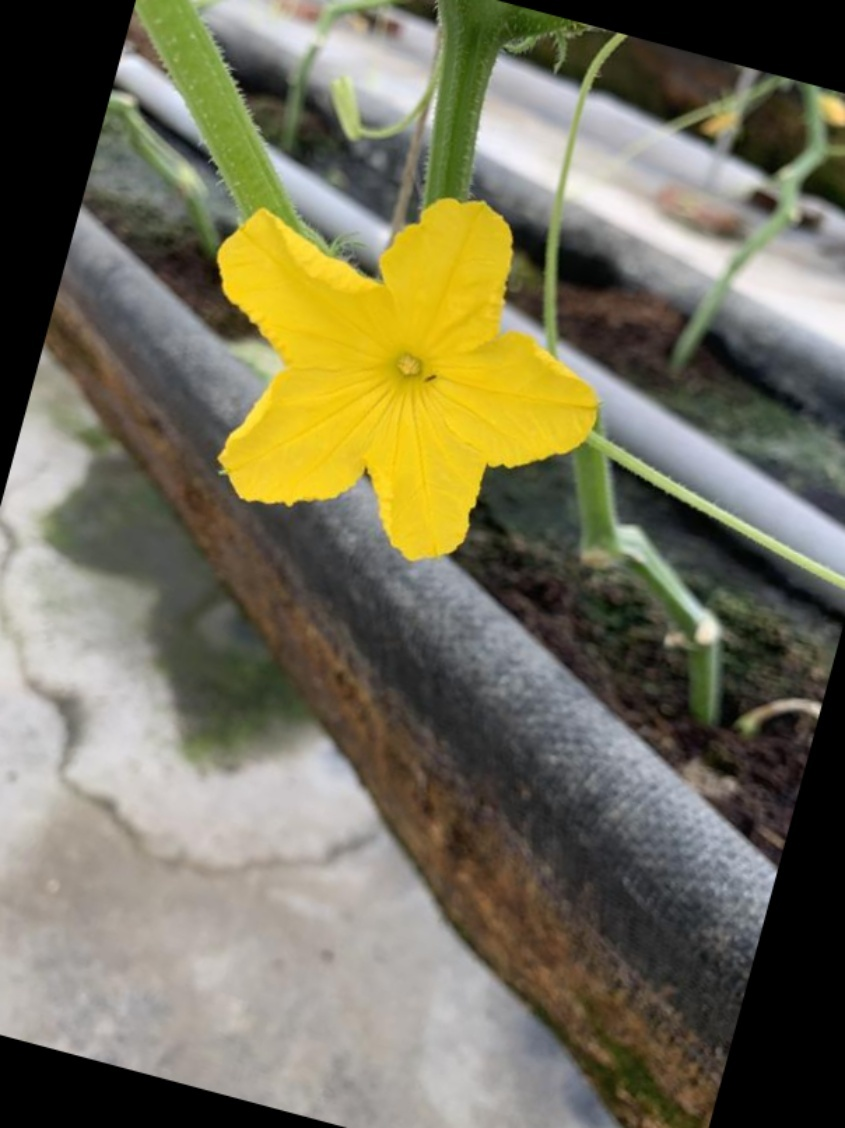mature: (207, 187, 608, 567)
